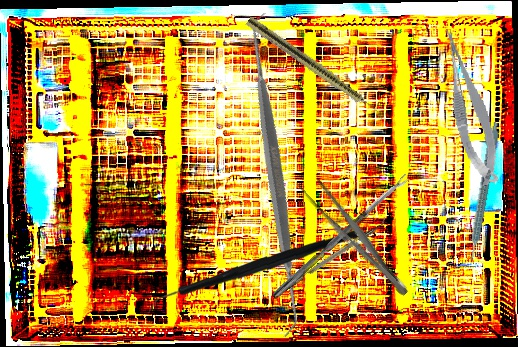Chopper: (147, 221, 358, 324), (278, 214, 389, 293)
Dressing Forceps: (293, 170, 417, 302)
Handpiece: (244, 15, 388, 122), (460, 120, 502, 262)
Micro Scissor: (438, 24, 504, 189)
Spatula Surgical: (110, 10, 439, 340)
Surgical Spoon: (271, 173, 411, 301)
